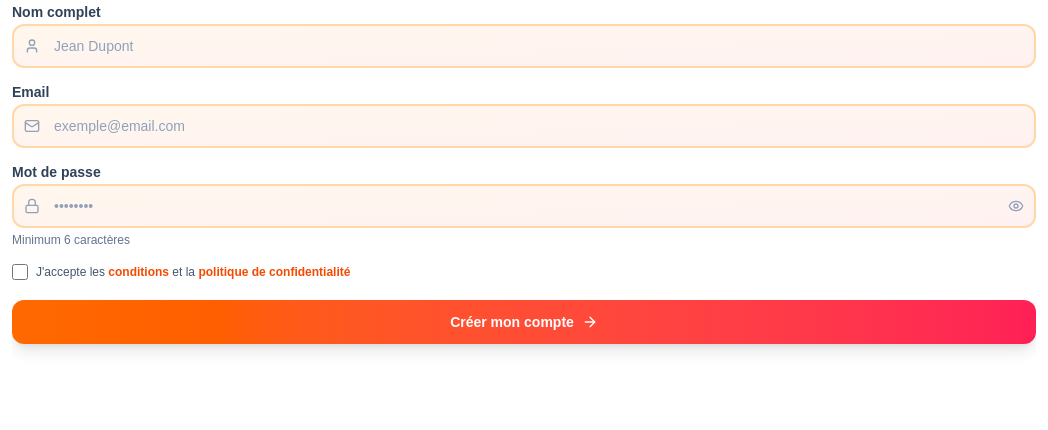
Scenario: RegisterForm › shows error for short password
Type "123" into the password field with placeholder "••••••••". click: (524, 206)
box: [12,184,1036,228]
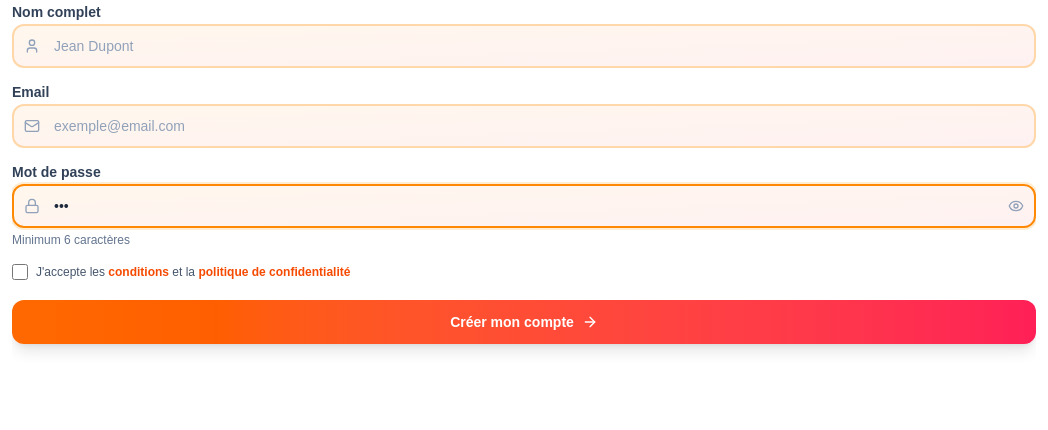
Click the button "Créer mon compte". click: (524, 322)
box: [12,300,1036,344]
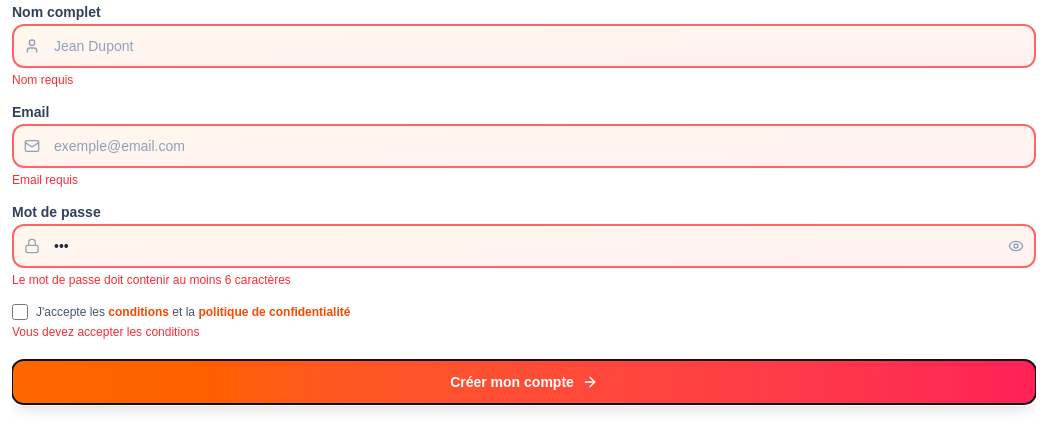
expect the text "Le mot de passe doit contenir au moins 6 caractères" is shown: met, box [12,273,291,287]
